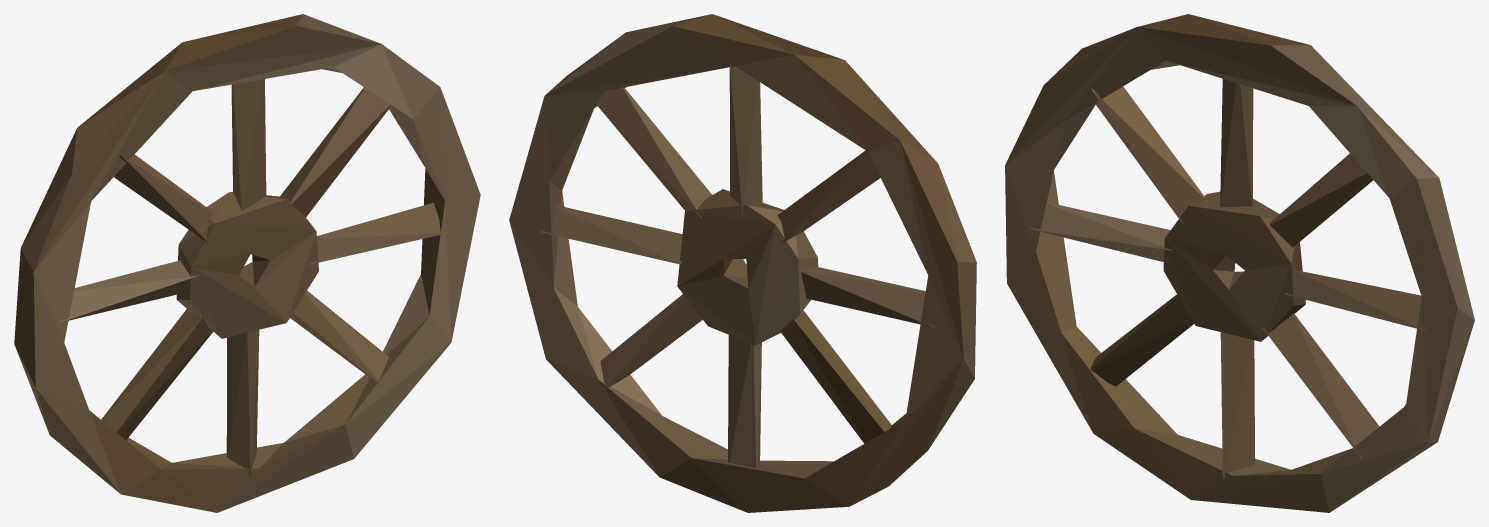
File: Prop-Wheel.fbx
The picture shows the model from 3 angles, left to right: view 1: azimuth 30°, elevation 25°; view 2: azimuth 150°, elevation 25°; view 3: azimuth 330°, elevation 25°; orthographic projection.
Visible parts, largest first — view 1: Prop-Wheel; view 2: Prop-Wheel; view 3: Prop-Wheel.
Part boxes in pixels (<box>): Prop-Wheel: <box>14,14,480,512</box>; Prop-Wheel: <box>509,14,976,512</box>; Prop-Wheel: <box>1005,14,1474,512</box>.
Size of the model in its own units: 170 by 170 by 12.17.
